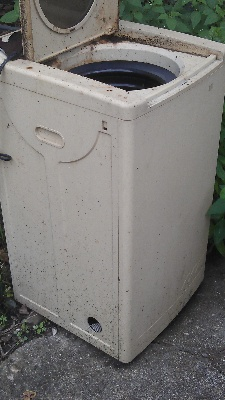washing_machine: (1, 17, 222, 362)
